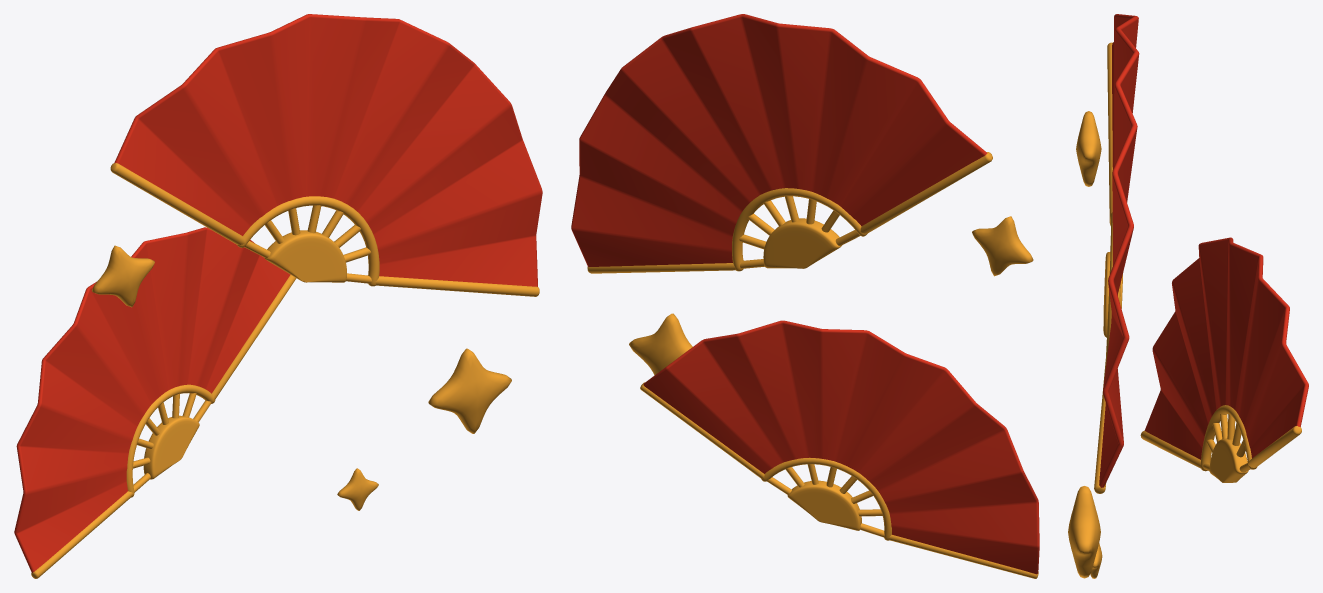
The model's file is Quat.glb.
3 renders of one model, left to right at view 1: azimuth 30°, elevation 25°; view 2: azimuth 150°, elevation 25°; view 3: azimuth 270°, elevation 25°, orthographic. The views are drawn at different scales.
Visible parts, largest first — view 1: Circle, Circle.006, Circle.003, Plane.016, Circle.004, Circle.001, Plane.010, Circle.010, Circle.009, Circle.002, Circle.008, Circle.007 (+1 smaller); view 2: Circle, Circle.006, Circle.004, Circle.003, Circle.010, Plane.016, Plane.010, Circle.009, Circle.001, Circle.002, Circle.008, Circle.007; view 3: Circle.006, Circle, Plane.016, Circle.003, Plane.010, Circle.010, Circle.009, Circle.007, Circle.008, Circle.004, Circle.001.
Part boxes in pixels (box(x1,y1,x2,y2)): Circle: box(114, 14, 542, 286); Circle.006: box(14, 227, 290, 572); Circle.003: box(110, 163, 539, 296); Plane.016: box(428, 348, 511, 433); Circle.004: box(264, 230, 346, 282); Circle.001: box(237, 196, 379, 286); Plane.010: box(92, 245, 154, 307); Circle.010: box(143, 415, 199, 479); Circle.009: box(31, 275, 296, 578); Circle.002: box(244, 205, 371, 283); Circle.008: box(133, 393, 211, 492); Circle.007: box(126, 384, 215, 497); Circle: box(571, 14, 987, 266); Circle.006: box(643, 320, 1039, 574); Circle.004: box(763, 218, 841, 268); Circle.003: box(587, 152, 992, 273); Circle.010: box(787, 480, 861, 530); Plane.016: box(629, 313, 692, 375); Plane.010: box(972, 216, 1033, 276); Circle.009: box(640, 382, 1038, 578); Circle.001: box(732, 188, 867, 271); Circle.002: box(739, 196, 860, 268); Circle.008: box(767, 464, 884, 537); Circle.007: box(761, 457, 891, 540); Circle.006: box(1144, 237, 1308, 459); Circle: box(1099, 14, 1139, 487); Plane.016: box(1068, 486, 1100, 578); Circle.003: box(1094, 42, 1112, 493); Plane.010: box(1076, 111, 1101, 186); Circle.010: box(1209, 438, 1248, 482); Circle.009: box(1140, 426, 1301, 468); Circle.007: box(1200, 405, 1256, 471); Circle.008: box(1203, 414, 1250, 472); Circle.004: box(1103, 252, 1122, 337); Circle.001: box(1105, 212, 1120, 359).
Bounding box in the file's own units: 6.24 × 5.97 × 2.48.
